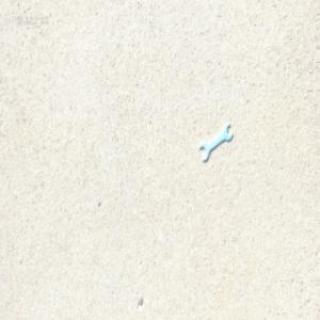Wrenchtrack_idkeyframe: (198, 123, 232, 161)
